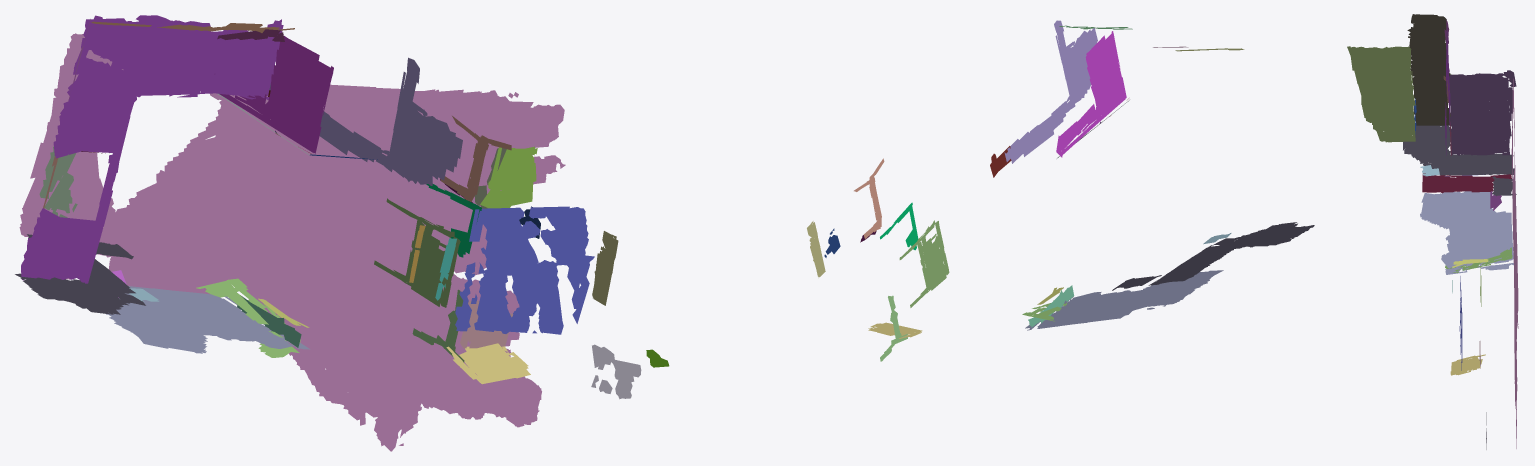
The model's file is scene0651_00_simple.glb.
The picture shows the model from 3 angles, left to right: view 1: azimuth 30°, elevation 25°; view 2: azimuth 150°, elevation 25°; view 3: azimuth 270°, elevation 25°; orthographic projection. The views are drawn at different scales.
Bounding box in the file's own units: 5.81 × 4.62 × 2.42.
